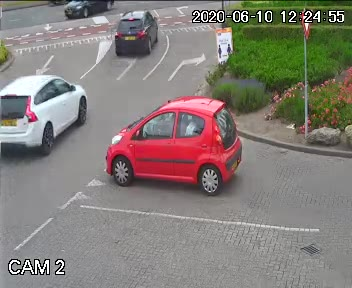car: (99, 90, 248, 209), (0, 69, 93, 153), (110, 14, 163, 64), (59, 0, 120, 22)
